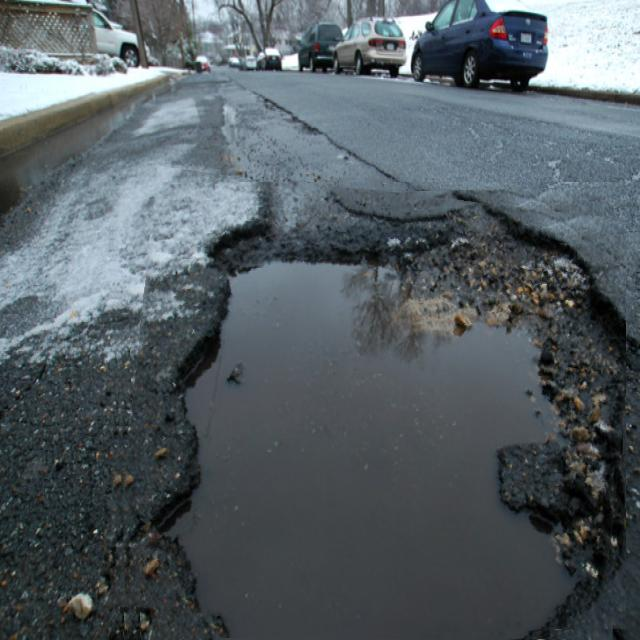Pothole: (110, 182, 626, 640)
